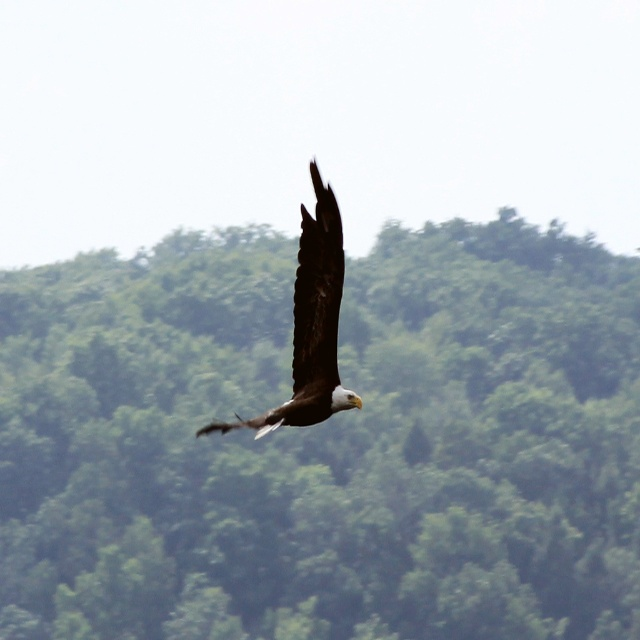Eagle: (196, 153, 362, 440)
